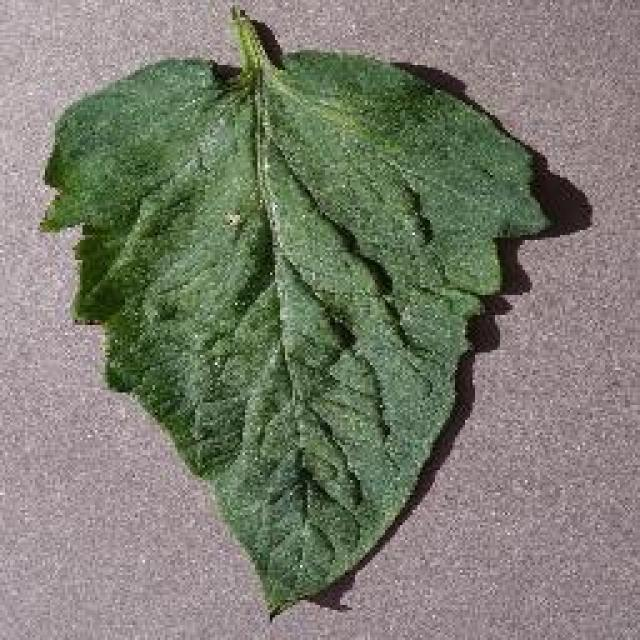Tomato___Target_Spot: (40, 5, 548, 638)
